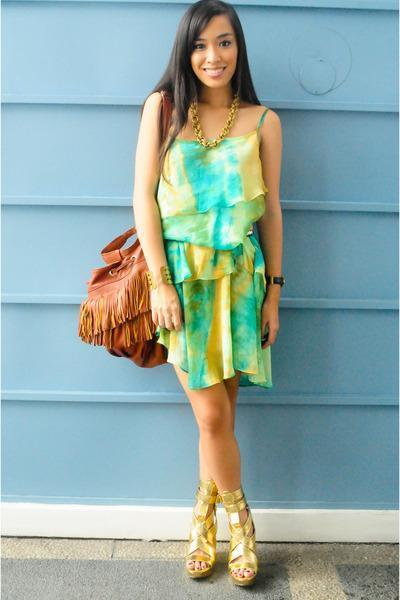bag: (78, 228, 167, 367)
dress: (156, 125, 283, 388)
shoe: (180, 483, 263, 584)
